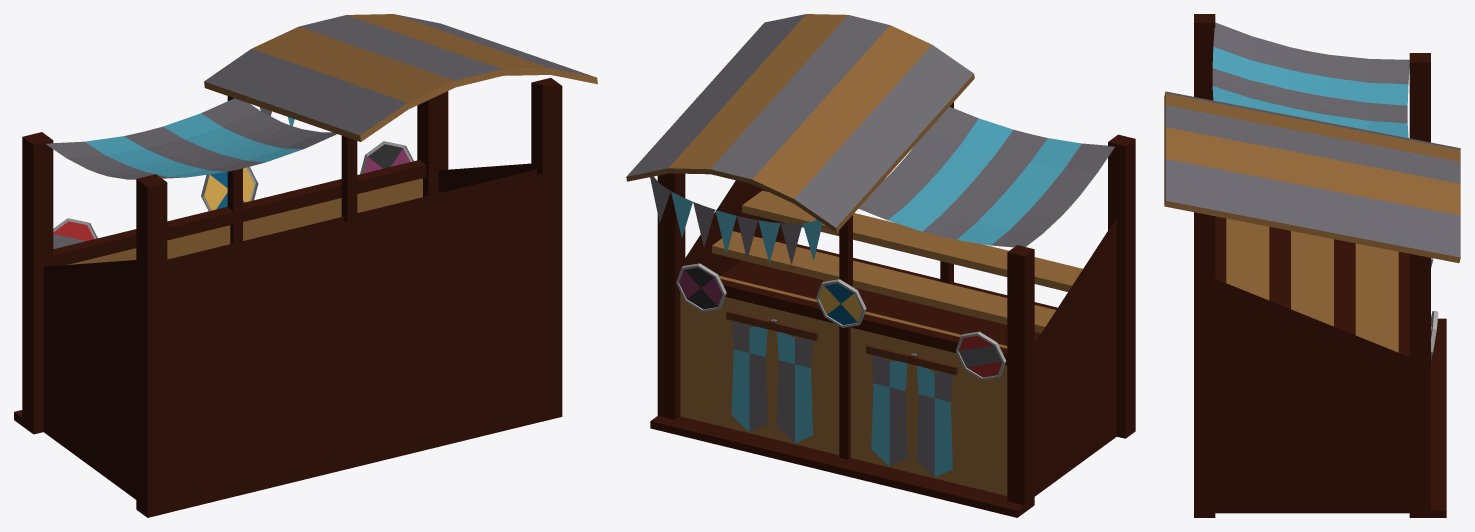
Rendered from Justa.fbx.
3 views of the same model, side by side, from view 1: azimuth 30°, elevation 25°; view 2: azimuth 150°, elevation 25°; view 3: azimuth 270°, elevation 25° (orthographic). The views are drawn at different scales.
Parts seen in each view (by area): view 1: Tarima.003; view 2: Tarima.003; view 3: Tarima.003.
Boxes of the visible parts, x1,y1,x2,y2 form: Tarima.003: (14, 14, 597, 517); Tarima.003: (626, 14, 1135, 517); Tarima.003: (1164, 14, 1460, 517).
Size of the model in its own units: 550 by 456 by 344.
